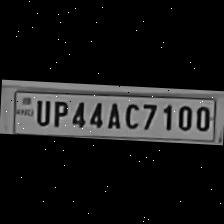0: (192, 102, 212, 131), (174, 102, 192, 132)
1: (156, 102, 174, 132)
4: (68, 97, 86, 127), (86, 98, 104, 128)
7: (138, 100, 158, 132)
A: (102, 98, 122, 130)
C: (121, 100, 139, 130)
P: (49, 98, 69, 127)
U: (32, 97, 50, 126)
